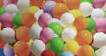Balloon: (13, 40, 30, 56), (76, 30, 93, 45), (48, 37, 63, 52), (1, 28, 16, 43), (30, 40, 45, 54), (92, 32, 106, 47), (15, 26, 29, 40), (78, 2, 92, 16), (76, 45, 93, 56), (1, 13, 14, 27), (21, 12, 35, 25), (62, 27, 76, 40), (40, 27, 53, 40), (60, 12, 74, 24), (17, 1, 30, 9)
